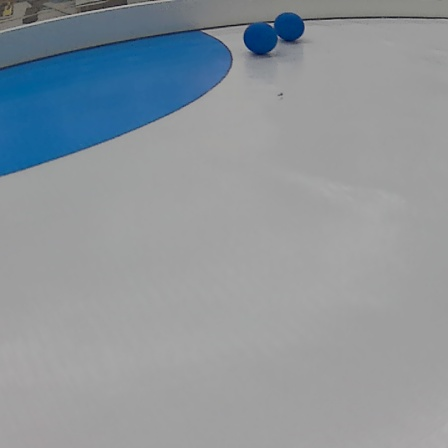blue: (242, 19, 278, 59), (277, 10, 305, 42)
blue_base: (2, 29, 234, 170)
